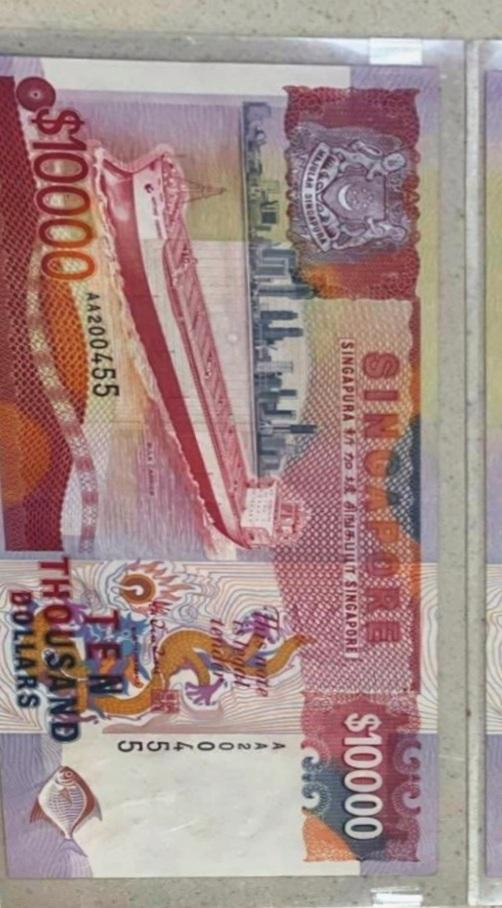10000SingaporeDollar: (0, 65, 437, 874)
